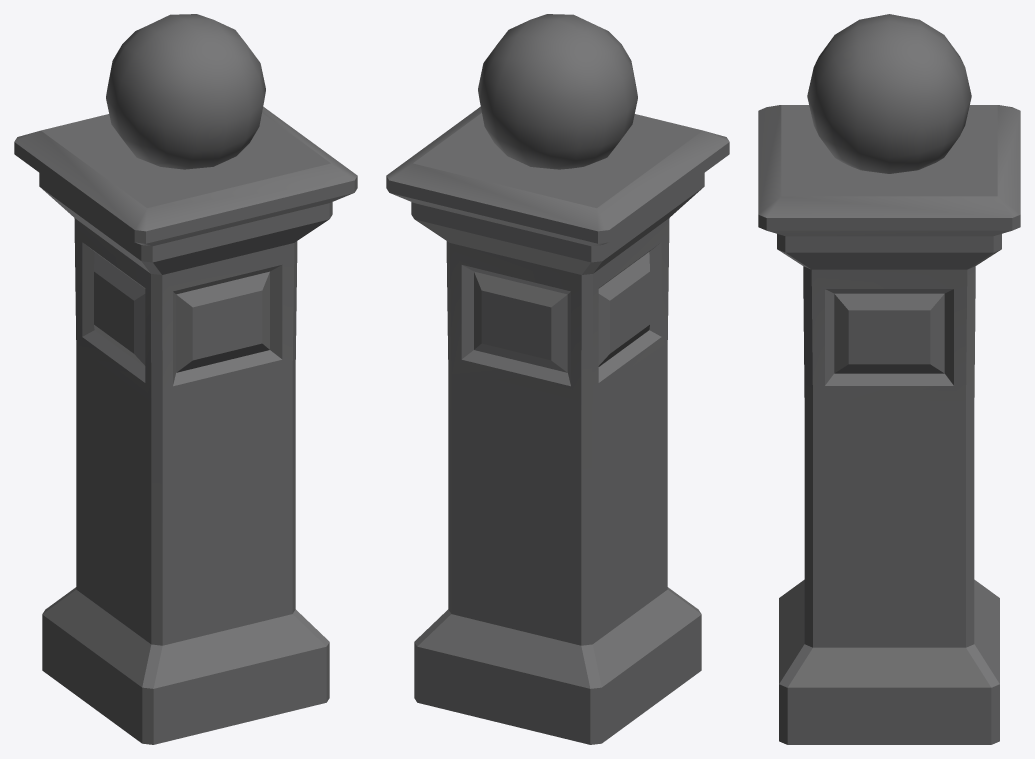
File: Pillar_2.fbx
The picture shows the model from 3 angles, left to right: view 1: azimuth 30°, elevation 25°; view 2: azimuth 150°, elevation 25°; view 3: azimuth 270°, elevation 25°; orthographic projection.
Parts seen in each view (by area): view 1: Pillar_2; view 2: Pillar_2; view 3: Pillar_2.
Part boxes in pixels (x1,y1,x2,y2): Pillar_2: [14, 14, 357, 744]; Pillar_2: [386, 14, 729, 744]; Pillar_2: [758, 14, 1020, 744].
Size of the model in its own units: 30.9 by 87.87 by 30.9.
